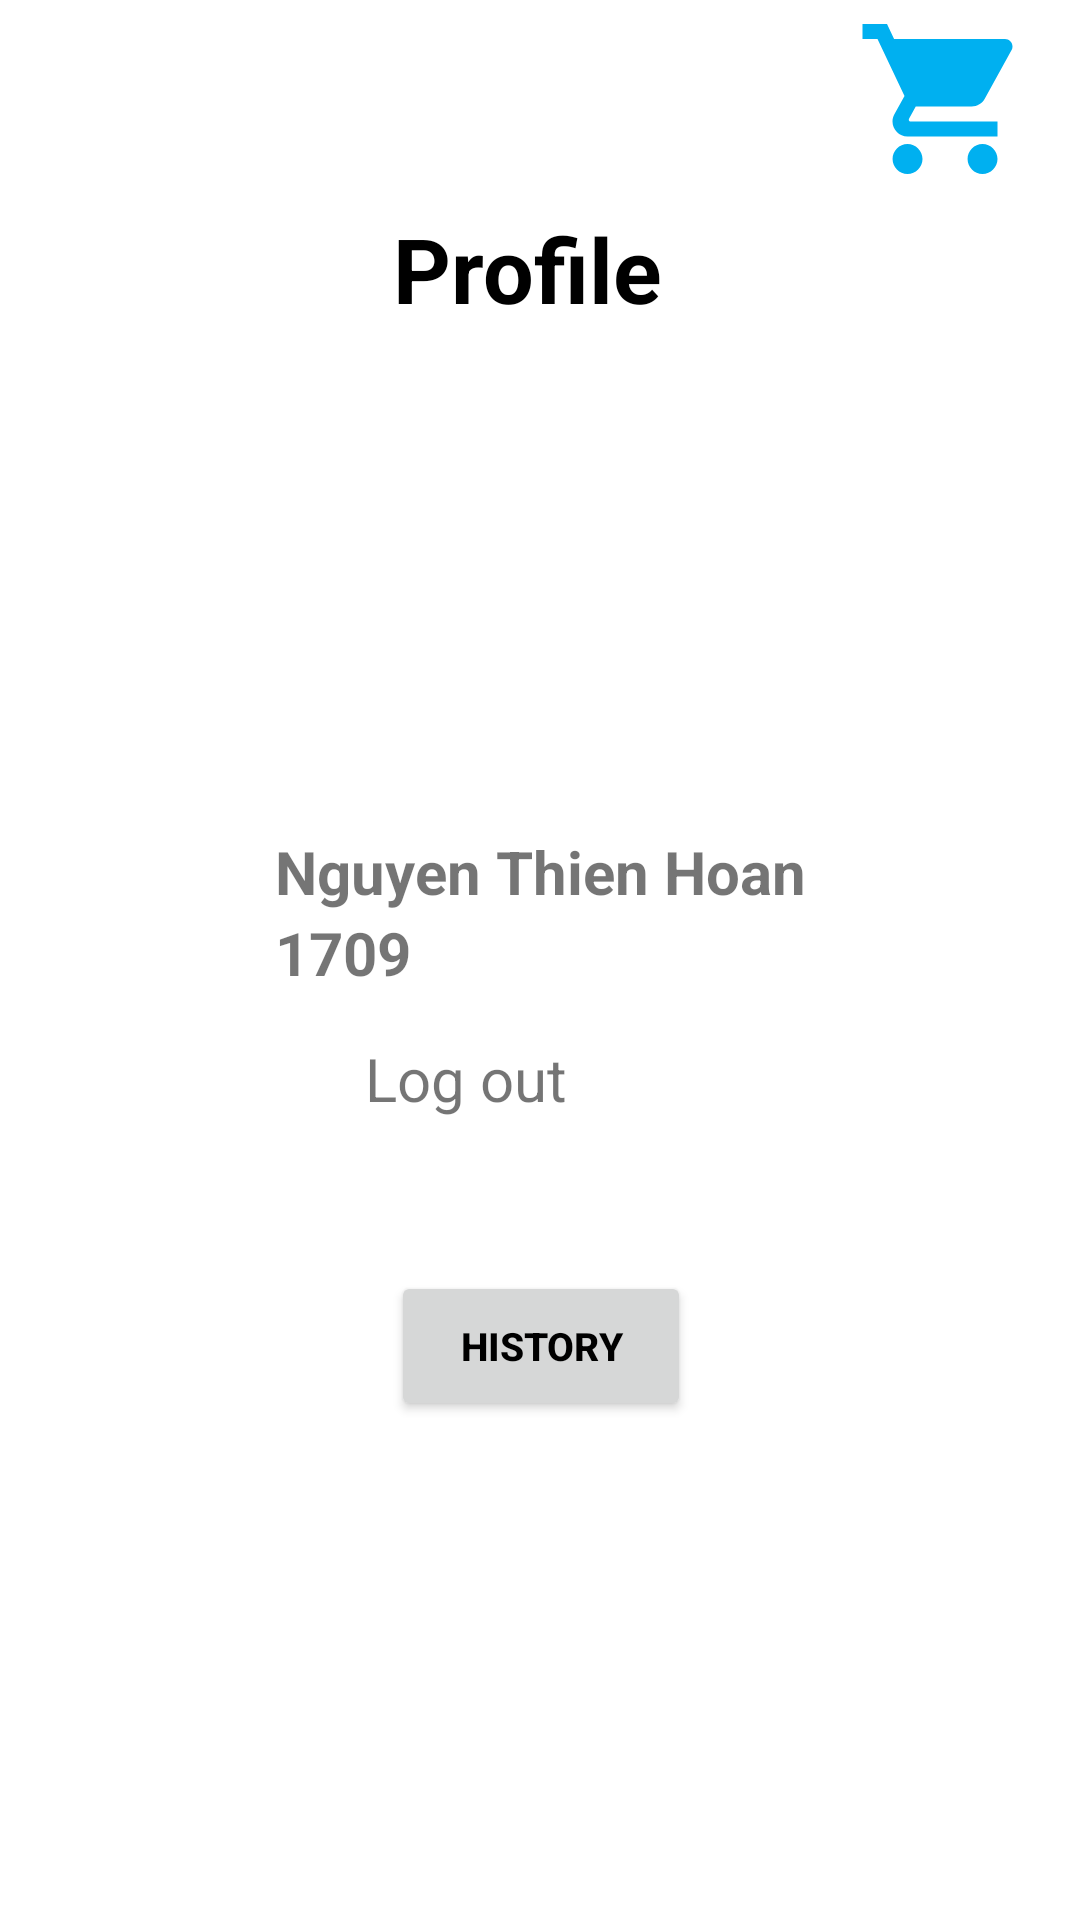

Point at icon controls on the screen. Image size 1080*1920, points as (x=x, y=y).
cart: (x=937, y=99)
